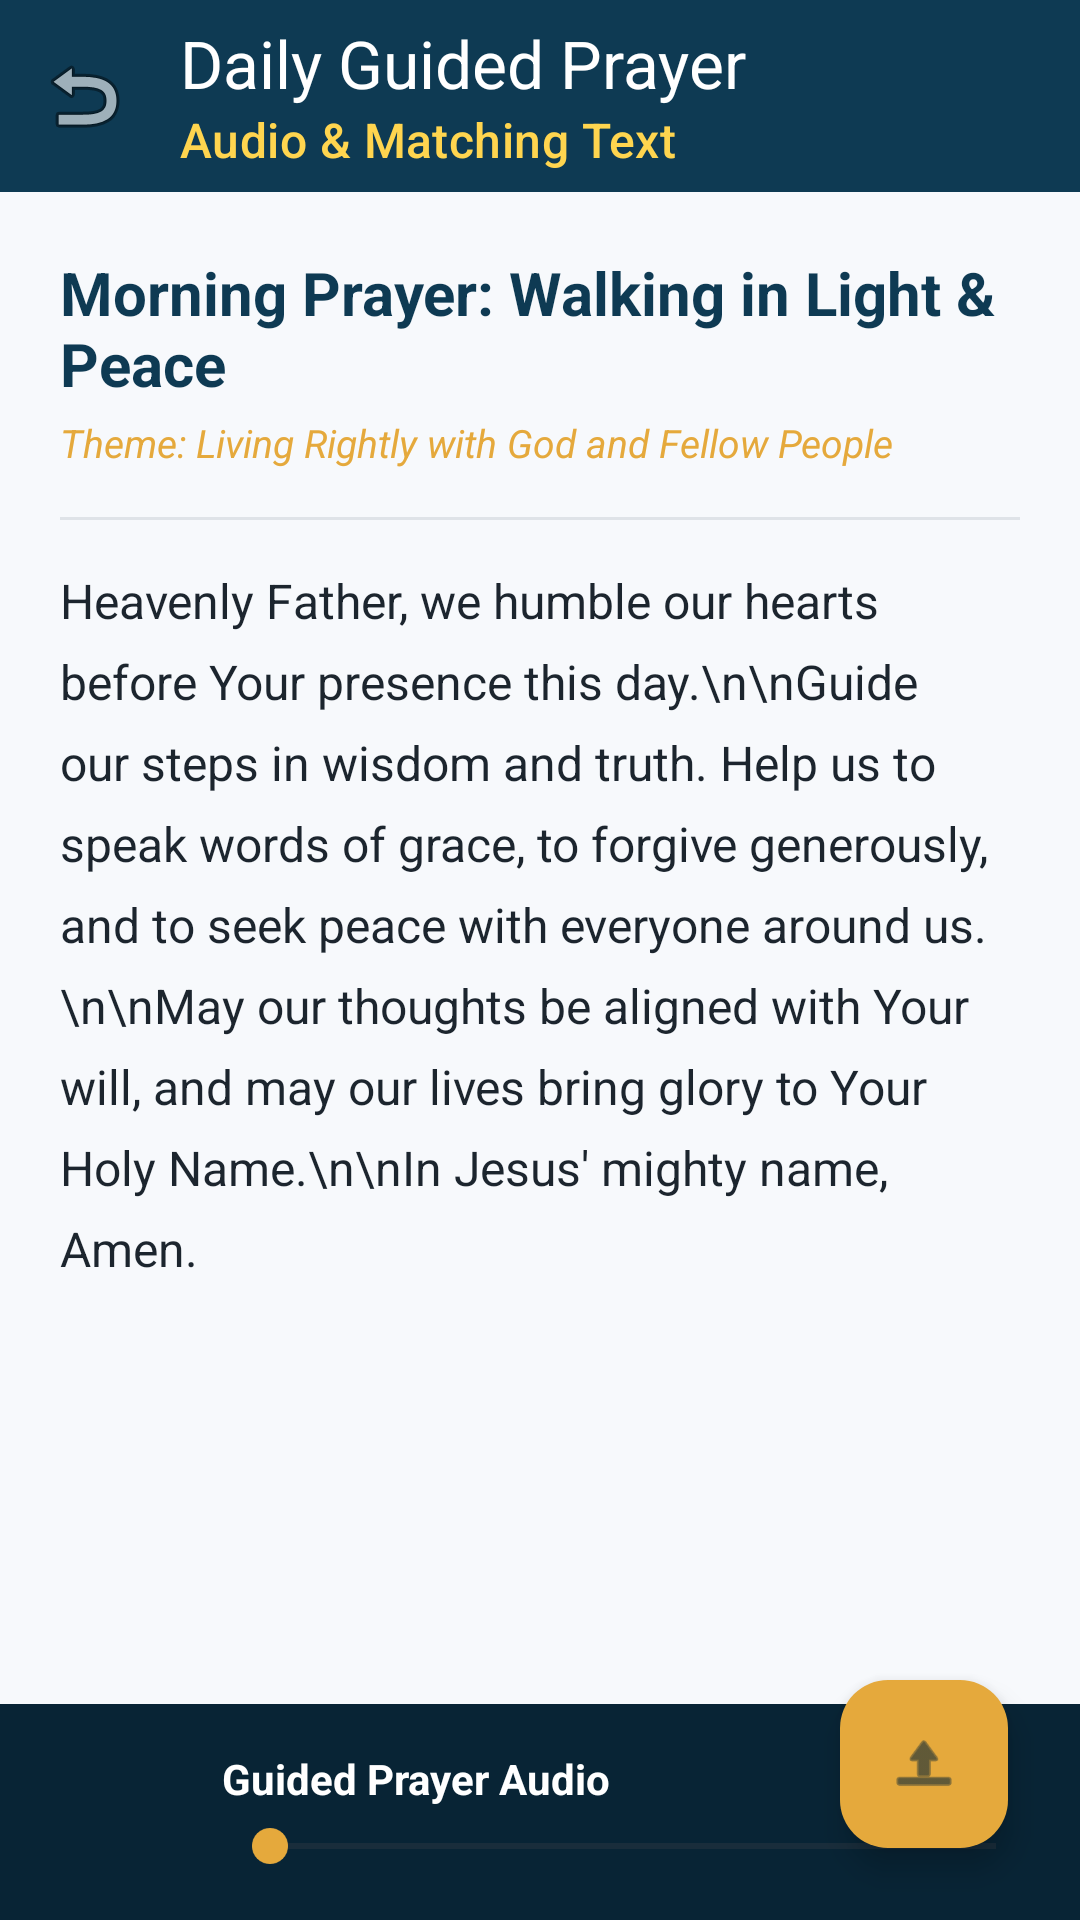

Named icons in this screenshot (1080 x 1920) and their centers, (x=x, y=y):
Upload Prayer: (x=924, y=1764)
